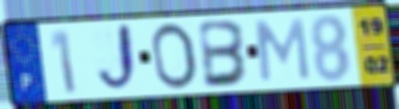1: (49, 27, 79, 96)
8: (307, 12, 354, 84)
B: (197, 18, 251, 90)
J: (94, 21, 140, 96)
M: (252, 16, 312, 83)
O: (149, 20, 201, 91)
